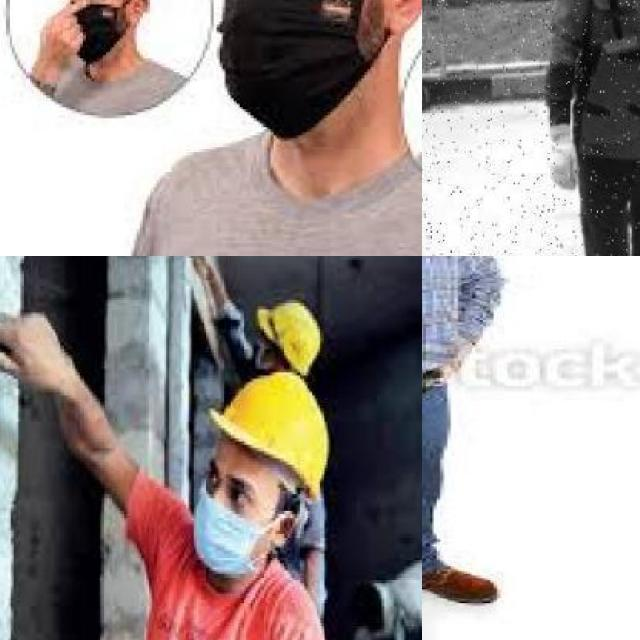apron: (542, 122, 582, 193)
